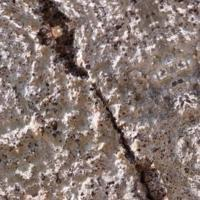crack: (36, 5, 156, 196)
